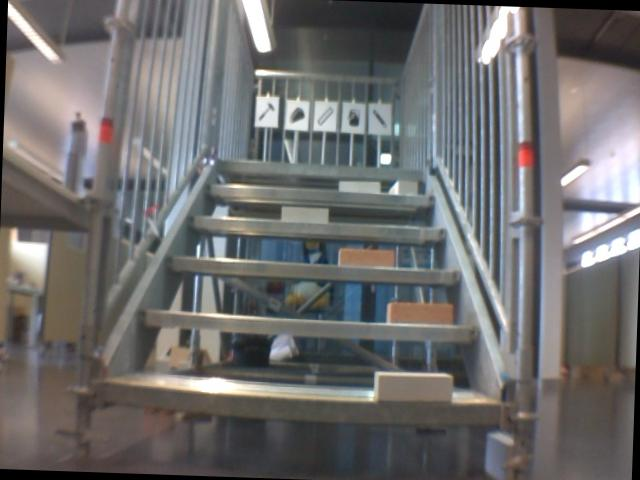brick: (372, 371, 452, 401), (387, 301, 452, 325), (339, 248, 393, 267), (280, 206, 328, 223), (339, 180, 379, 193), (390, 179, 418, 195)
bucket: (344, 105, 361, 127)
edge: (100, 382, 502, 425), (138, 309, 478, 342), (165, 255, 461, 284), (186, 216, 448, 241), (203, 183, 434, 205), (217, 160, 421, 180)
hammer: (257, 99, 276, 123)
pencil: (368, 108, 390, 129)
ruler: (313, 103, 333, 129)
steps: (92, 151, 513, 433)
taco: (285, 103, 305, 125)
